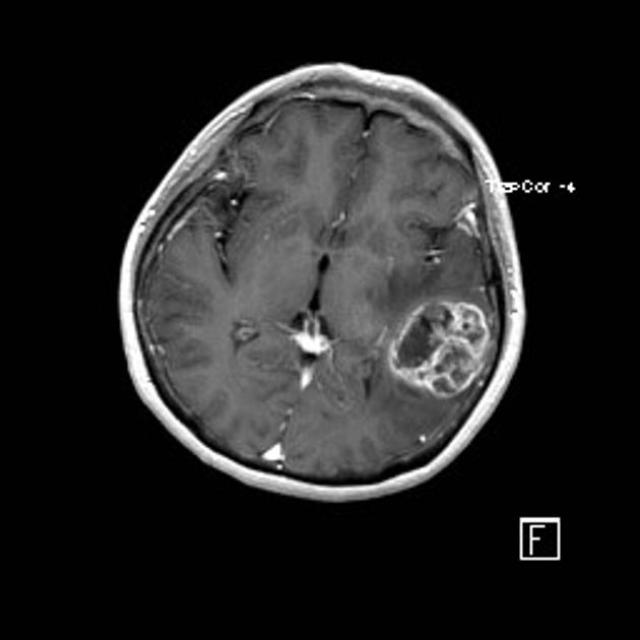Tumor-Cell: (378, 291, 479, 408)
